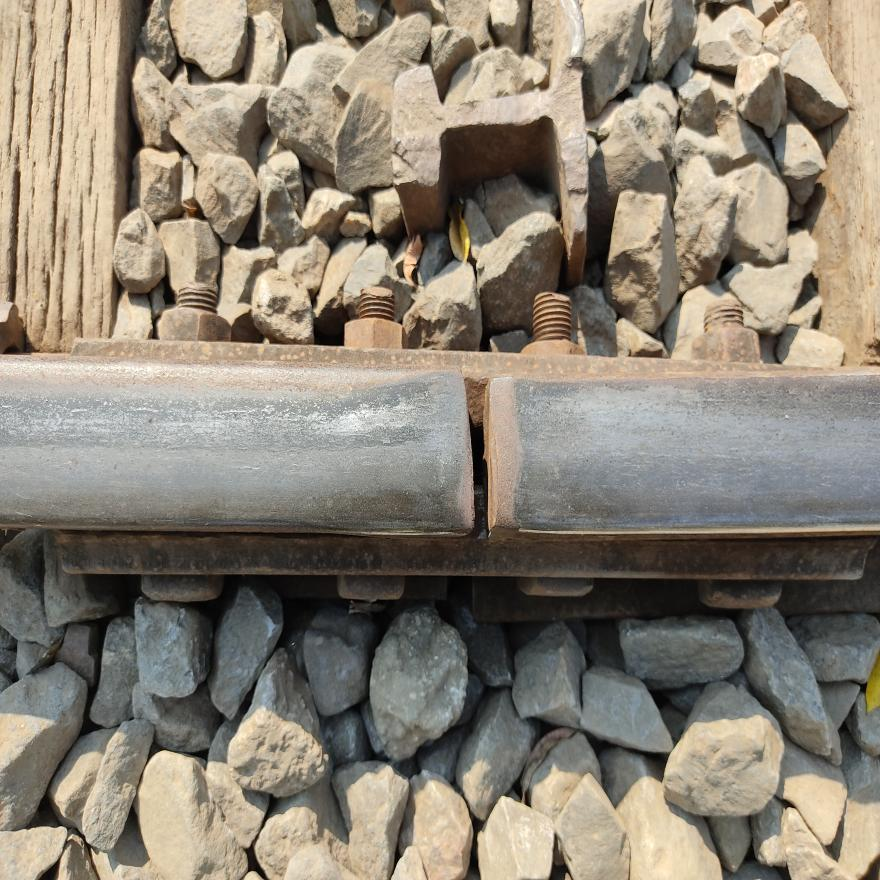railway-gap: (382, 344, 568, 573)
